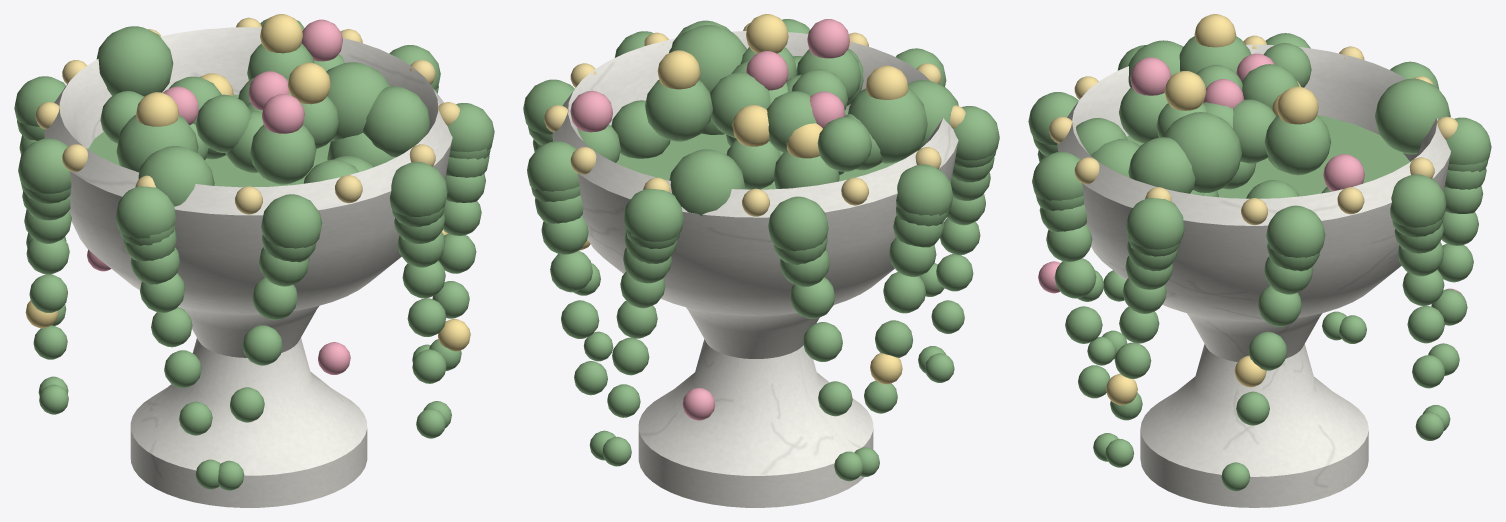
The model's file is th35_pflanzschale.glb.
The picture shows the model from 3 angles, left to right: view 1: azimuth 30°, elevation 25°; view 2: azimuth 150°, elevation 25°; view 3: azimuth 270°, elevation 25°; orthographic projection. The views are drawn at different scales.
Parts seen in each view (by area): view 1: Schale, Sphere.014, Sphere.027, Sphere.023, Sphere.016, Sphere.026, Sphere.098, Sphere.106, Sphere.012, Sphere.089, Sphere.039, Sphere.080 (+53 smaller); view 2: Schale, Sphere.012, Sphere.014, Sphere.028, Sphere.023, Sphere.073, Sphere.063, Circle, Sphere.080, Sphere.042, Sphere.018, Sphere.019 (+57 smaller); view 3: Schale, Circle, Sphere.023, Sphere.014, Sphere.028, Sphere.027, Sphere.047, Sphere.114, Sphere.055, Sphere.106, Sphere.018, Sphere.016 (+56 smaller).
Boxes of the visible parts, x1=… form: Schale: x1=44, y1=27, x2=452, y2=507; Sphere.014: x1=96, y1=26, x2=173, y2=96; Sphere.027: x1=363, y1=86, x2=430, y2=157; Sphere.023: x1=326, y1=62, x2=390, y2=141; Sphere.016: x1=250, y1=124, x2=316, y2=184; Sphere.026: x1=138, y1=146, x2=214, y2=206; Sphere.098: x1=261, y1=194, x2=322, y2=248; Sphere.106: x1=389, y1=162, x2=447, y2=216; Sphere.012: x1=116, y1=115, x2=198, y2=172; Sphere.089: x1=115, y1=186, x2=176, y2=238; Sphere.039: x1=196, y1=94, x2=251, y2=152; Sphere.080: x1=18, y1=138, x2=71, y2=193; Schale: x1=552, y1=31, x2=958, y2=507; Sphere.012: x1=848, y1=88, x2=927, y2=163; Sphere.014: x1=669, y1=149, x2=745, y2=215; Sphere.028: x1=645, y1=80, x2=712, y2=141; Sphere.023: x1=669, y1=25, x2=746, y2=93; Sphere.073: x1=768, y1=196, x2=828, y2=251; Sphere.063: x1=623, y1=188, x2=684, y2=241; Circle: x1=616, y1=109, x2=903, y2=189; Sphere.080: x1=896, y1=164, x2=953, y2=215; Sphere.042: x1=817, y1=117, x2=871, y2=171; Sphere.018: x1=710, y1=72, x2=770, y2=137; Sphere.019: x1=611, y1=100, x2=670, y2=158; Schale: x1=1057, y1=44, x2=1450, y2=507; Circle: x1=1127, y1=115, x2=1409, y2=198; Sphere.023: x1=1163, y1=112, x2=1241, y2=192; Sphere.014: x1=1375, y1=78, x2=1450, y2=154; Sphere.028: x1=1264, y1=115, x2=1331, y2=175; Sphere.027: x1=1128, y1=137, x2=1195, y2=193; Sphere.047: x1=1266, y1=205, x2=1325, y2=257; Sphere.114: x1=1126, y1=198, x2=1184, y2=249; Sphere.055: x1=1390, y1=174, x2=1446, y2=227; Sphere.106: x1=1032, y1=151, x2=1083, y2=200; Sphere.018: x1=1233, y1=99, x2=1276, y2=163; Sphere.016: x1=1119, y1=87, x2=1167, y2=143.
Bounding box in the file's own units: 1.23 × 1.16 × 1.22.
5 materials, 1 textured.
